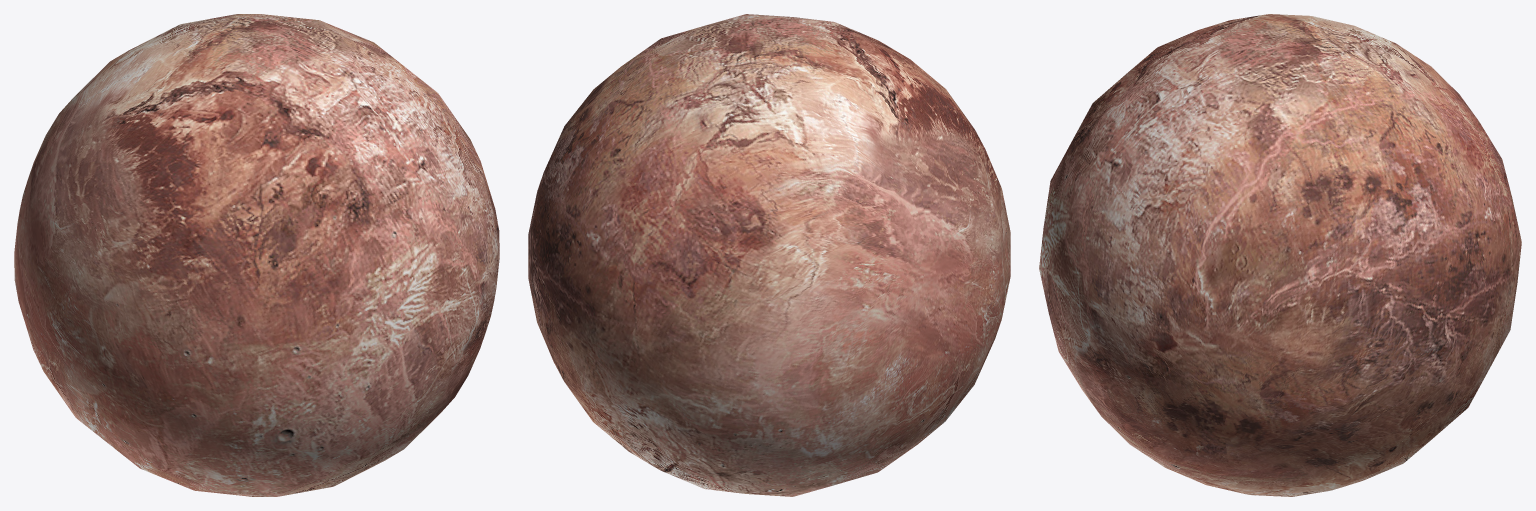
The model's file is pluto.fbx.
The picture shows the model from 3 angles, left to right: view 1: azimuth 30°, elevation 25°; view 2: azimuth 150°, elevation 25°; view 3: azimuth 270°, elevation 25°; orthographic projection.
Visible parts, largest first — view 1: Sphere_1; view 2: Sphere_1; view 3: Sphere_1.
Part boxes in pixels (left/top/right/bottom): Sphere_1: left=14, top=14, right=499, bottom=496; Sphere_1: left=528, top=14, right=1010, bottom=496; Sphere_1: left=1039, top=14, right=1521, bottom=496.
Bounding box in the file's own units: 199 × 199 × 200.
Materials: 1 (1 with a texture image).
